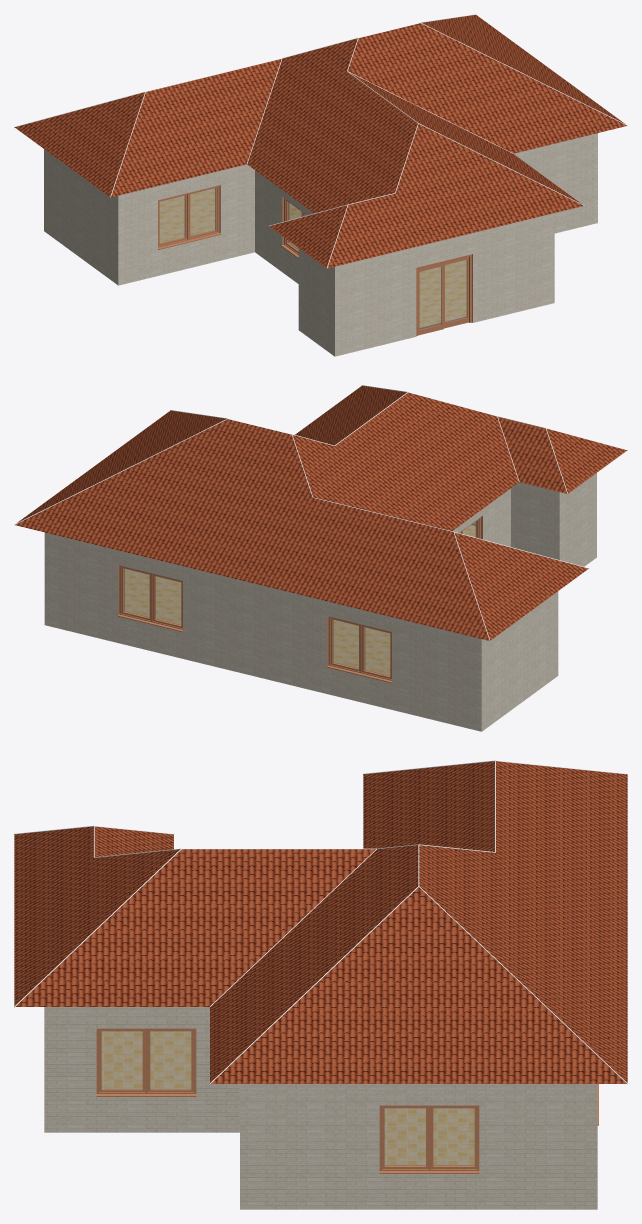
Rendered from telhado38N.glb.
The picture shows the model from 3 angles, top to bottom: view 1: azimuth 30°, elevation 25°; view 2: azimuth 150°, elevation 25°; view 3: azimuth 270°, elevation 25°; orthographic projection. The views are drawn at different scales.
Visible parts, largest first — view 1: object 5, object 2, object 3, root, object 4; view 2: object 5, object 2, object 3, root, object 4; view 3: object 5, object 2, object 3, root, object 4.
Boxes of the visible parts, box(x1,y1,x2,y2) form: object 5: box(15, 15, 626, 268); object 2: box(44, 133, 597, 356); object 3: box(159, 188, 466, 329); root: box(159, 188, 466, 327); object 4: box(158, 185, 472, 335); object 5: box(15, 385, 626, 640); object 2: box(44, 473, 596, 731); object 3: box(124, 521, 476, 676); root: box(124, 525, 475, 675); object 4: box(118, 516, 482, 683); object 5: box(14, 761, 627, 1083); object 2: box(44, 1007, 597, 1209); object 3: box(101, 1031, 474, 1165); root: box(101, 1031, 474, 1165); object 4: box(96, 1028, 598, 1173).
Bounding box in the file's own units: 14.72 × 5.49 × 12.32.
Materials: 10 (4 with a texture image).
